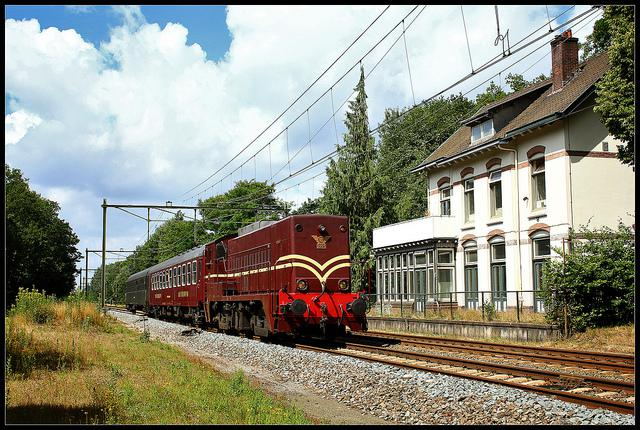Train: (123, 213, 368, 344)
